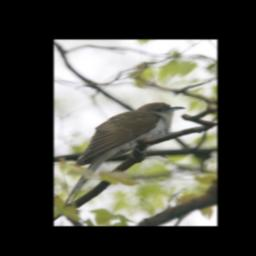Cuckoo: (63, 102, 185, 207)
